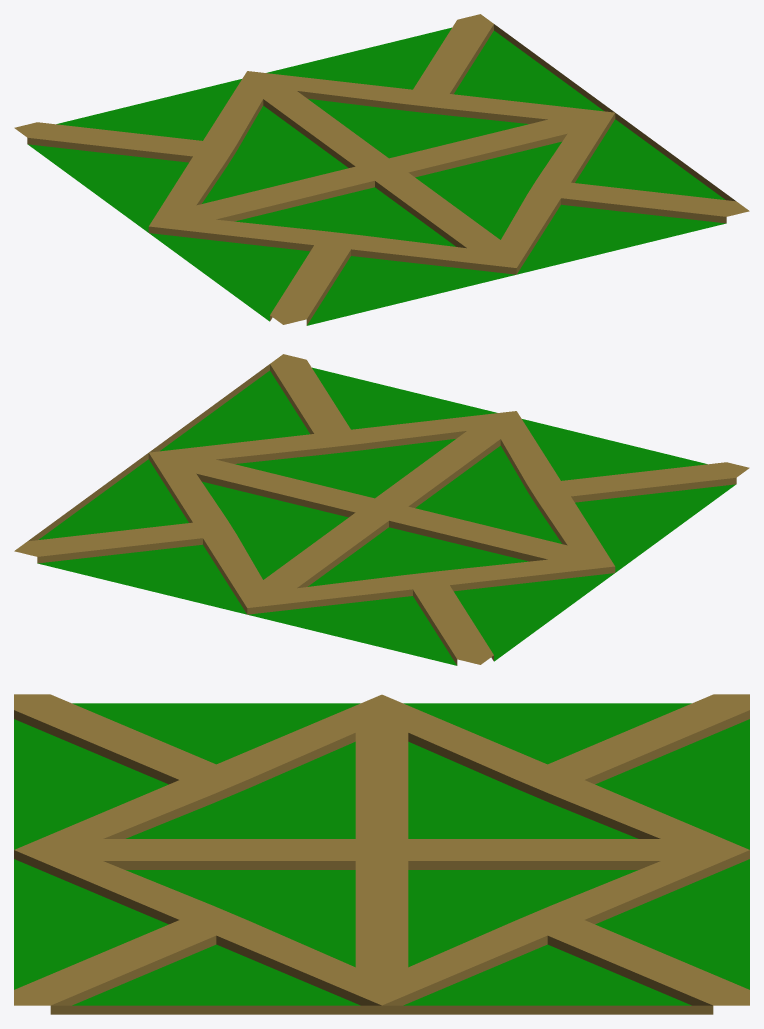
The model's file is Bashnya_Green.fbx.
3 renders of one model, top to bottom at view 1: azimuth 30°, elevation 25°; view 2: azimuth 150°, elevation 25°; view 3: azimuth 270°, elevation 25°, orthographic. The views are drawn at different scales.
Visible parts, largest first — view 1: Location; view 2: Location; view 3: Location.
Boxes of the visible parts, left/top/right/bottom form: Location: left=14, top=14, right=749, bottom=325; Location: left=14, top=354, right=749, bottom=665; Location: left=14, top=694, right=749, bottom=1014.
Size of the model in its own units: 12000 by 161 by 12000.
